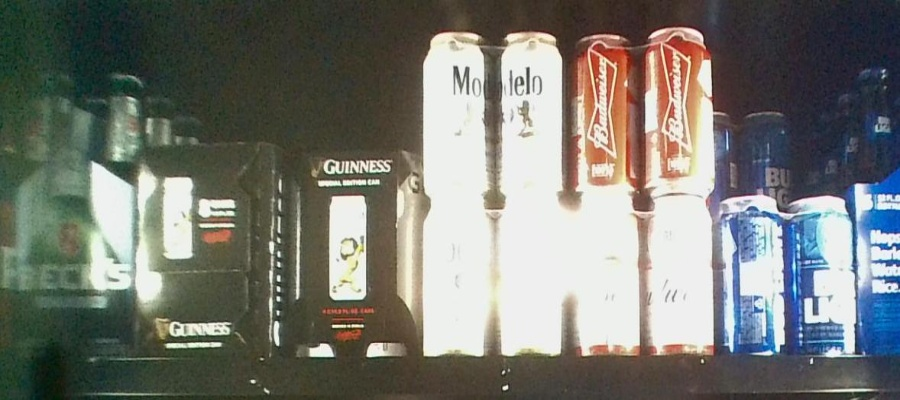bottle: (566, 29, 717, 352), (424, 28, 567, 354), (137, 147, 277, 353), (290, 148, 419, 363), (713, 196, 856, 353), (856, 69, 900, 356)
